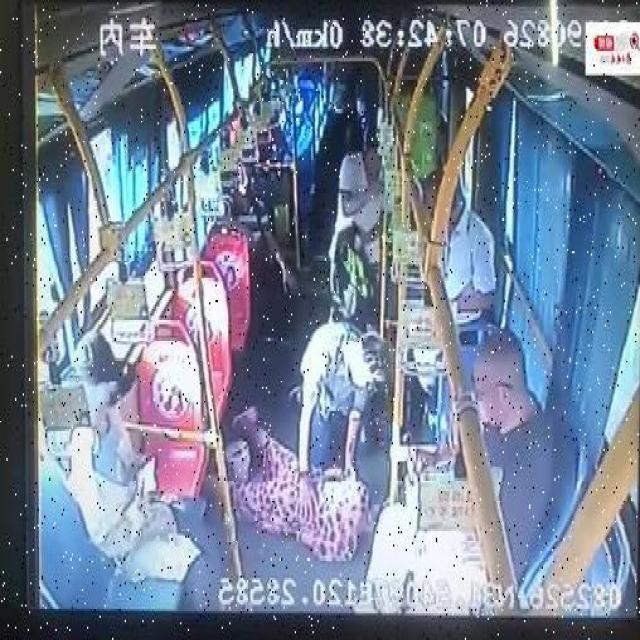fall: (203, 442, 384, 551)
